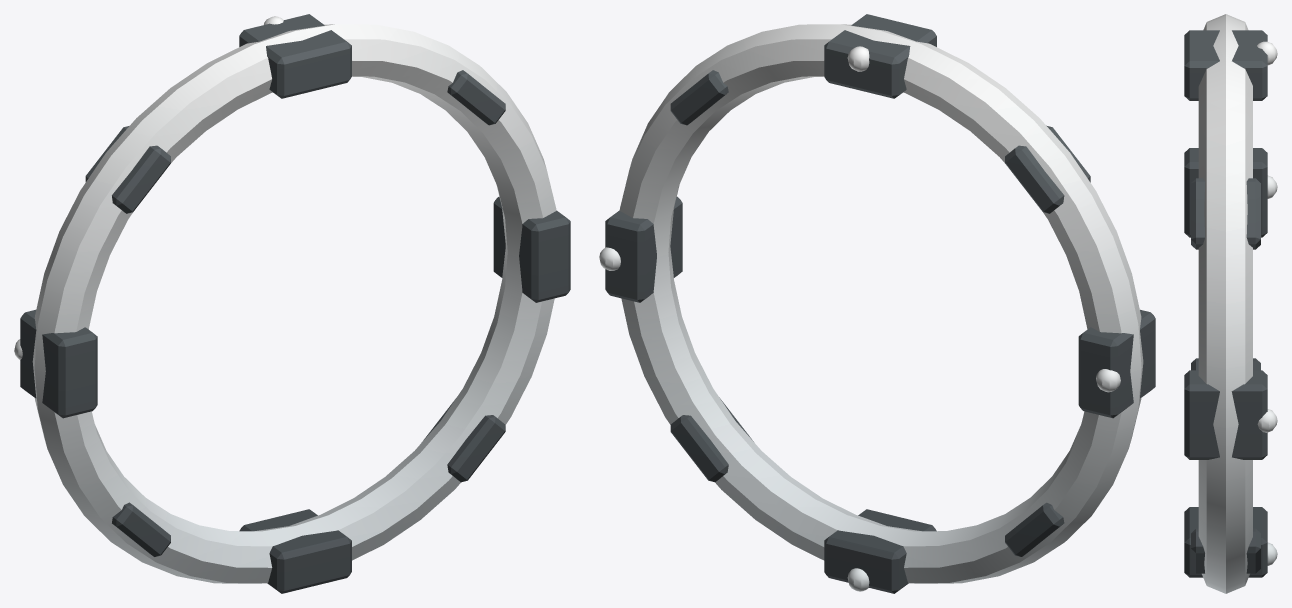
The model's file is portao.glb.
3 views of the same model, side by side, from view 1: azimuth 30°, elevation 25°; view 2: azimuth 150°, elevation 25°; view 3: azimuth 270°, elevation 25° (orthographic). The views are drawn at different scales.
Visible parts, largest first — view 1: portao_anel; view 2: portao_anel; view 3: portao_anel.
Boxes of the visible parts, x1,y1,x2,y2 form: portao_anel: (14, 14, 570, 593); portao_anel: (599, 14, 1155, 593); portao_anel: (1184, 14, 1277, 593).
Bounding box in the file's own units: 13.24 × 13.24 × 2.13.
2 materials, 2 textured.
